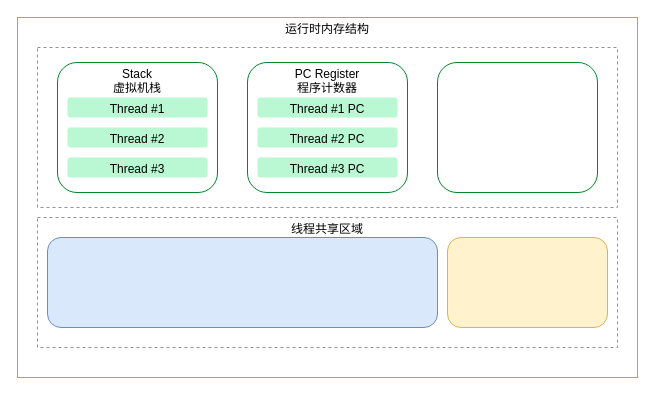
This 655x395 diagram has some shape labels left out. The shapes that lost their labels are listed below. From the top down, each one's centre as x and y in pixels, then its label:
the point at 517,127: Native Method Stack 本地方法栈
the point at 242,282: Heap 堆
the point at 527,282: Method Area 方法区
